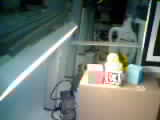duck: (95, 43, 127, 81)
